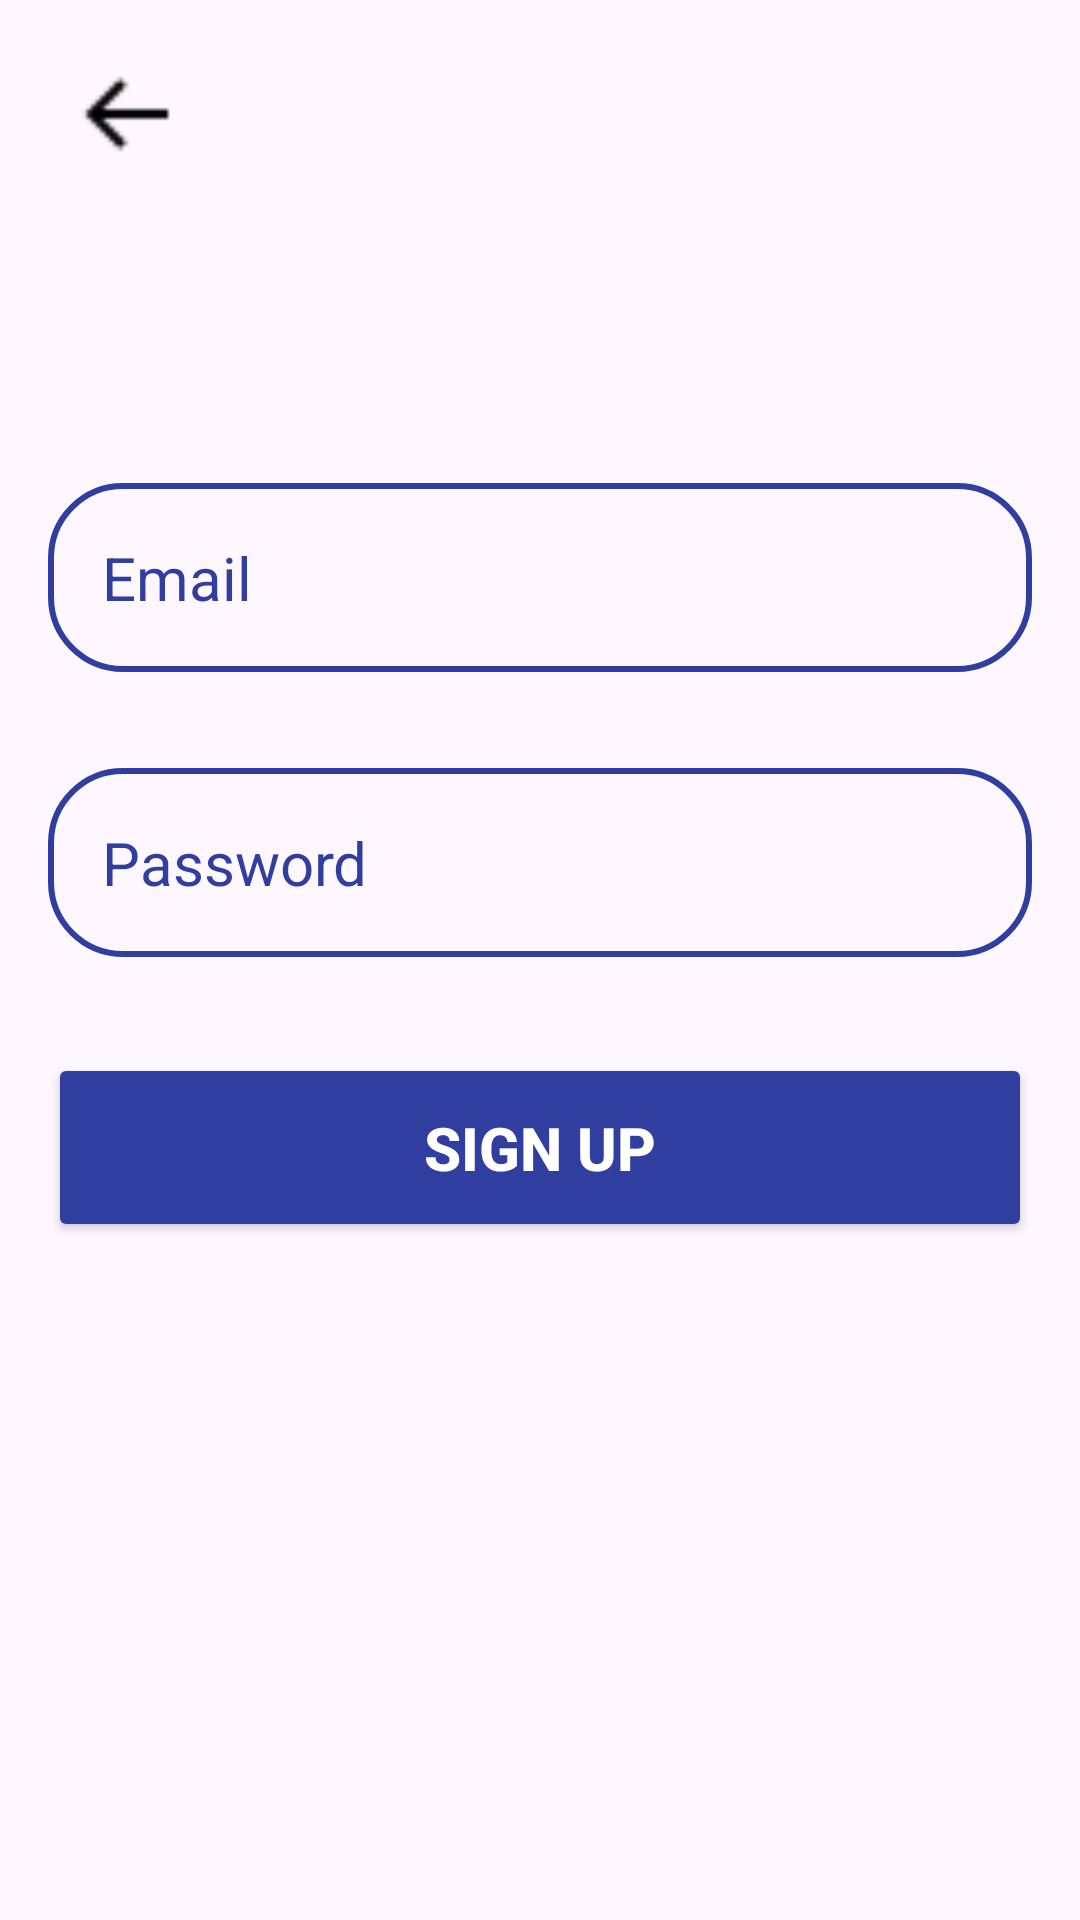

Icons on this 1080w x 1920h Android screen, each with the point to tap as [x,y]:
backicon: [127,114]
